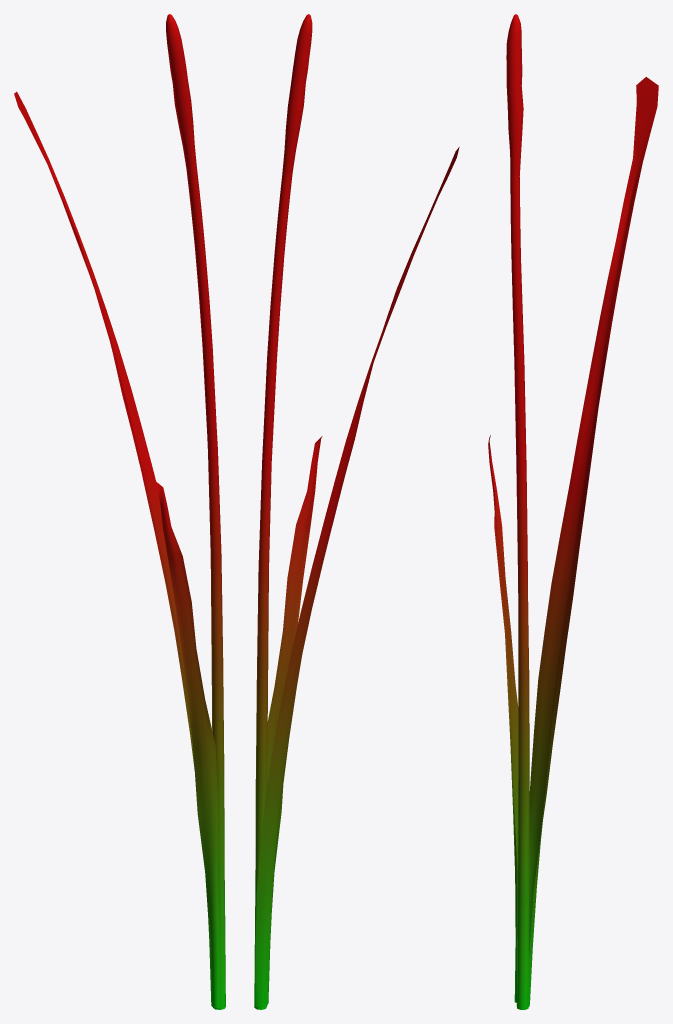
The model's file is Rush Daffodil_LOD0_Var24_wftgfjaia.fbx.
3 views of the same model, side by side, from view 1: azimuth 30°, elevation 25°; view 2: azimuth 210°, elevation 25°; view 3: azimuth 270°, elevation 25° (orthographic). The views are drawn at different scales.
Visible parts, largest first — view 1: _ugr0_var24_LOD0; view 2: _ugr0_var24_LOD0; view 3: _ugr0_var24_LOD0.
Boxes of the visible parts, box(x1,y1,x2,y2) form: _ugr0_var24_LOD0: box(14, 14, 225, 1009); _ugr0_var24_LOD0: box(254, 14, 459, 1009); _ugr0_var24_LOD0: box(488, 14, 658, 1009).
Size of the model in its own units: 4.03 by 25.63 by 4.09.
